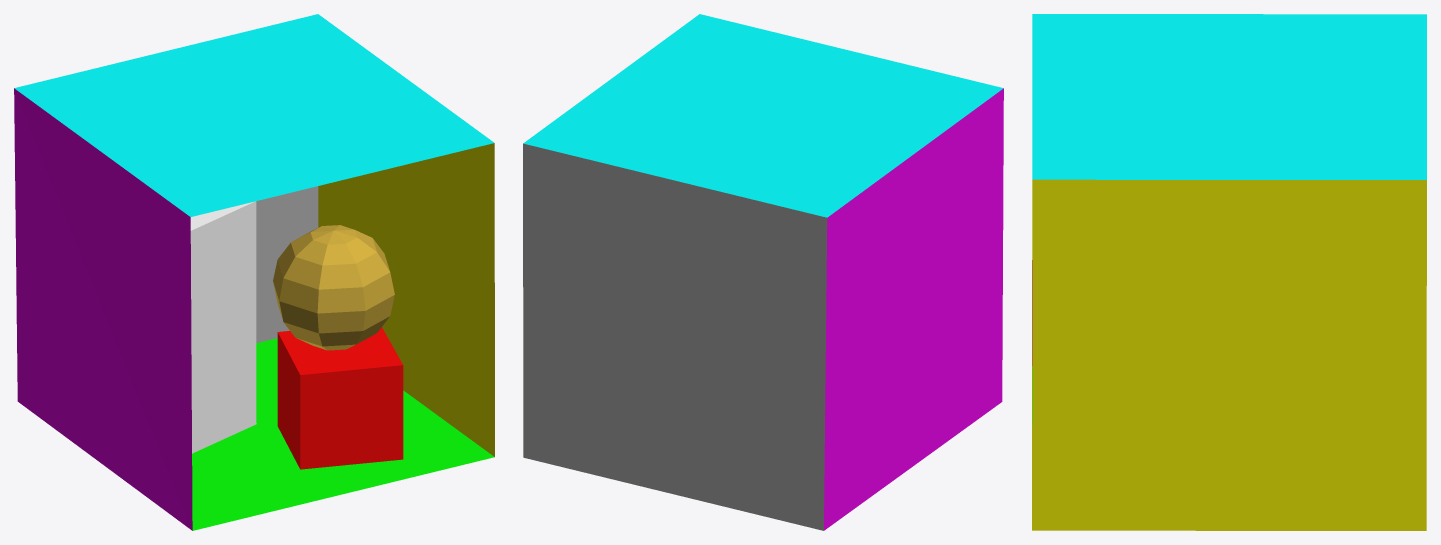
The model's file is cornell-box-sphere-metal.obj.
3 renders of one model, left to right at view 1: azimuth 30°, elevation 25°; view 2: azimuth 150°, elevation 25°; view 3: azimuth 270°, elevation 25°, orthographic. The views are drawn at different scales.
Visible parts, largest first — view 1: left_wall, ceiling, right_wall, floor, tall_box, short_box, sphere, back_wall; view 2: back_wall, left_wall, ceiling; view 3: right_wall, ceiling.
Boxes of the visible parts, left/top/right/bottom form: left_wall: left=14, top=88, right=192, bottom=530; ceiling: left=14, top=14, right=494, bottom=216; right_wall: left=318, top=143, right=494, bottom=456; floor: left=192, top=338, right=494, bottom=530; tall_box: left=190, top=201, right=256, bottom=453; short_box: left=277, top=327, right=403, bottom=469; sphere: left=273, top=225, right=394, bottom=350; back_wall: left=256, top=186, right=318, bottom=343; back_wall: left=523, top=143, right=827, bottom=530; left_wall: left=824, top=88, right=1003, bottom=530; ceiling: left=523, top=14, right=1003, bottom=217; right_wall: left=1032, top=179, right=1426, bottom=530; ceiling: left=1032, top=14, right=1426, bottom=179.
Bounding box in the file's own units: 5.56 × 5.49 × 5.6.
